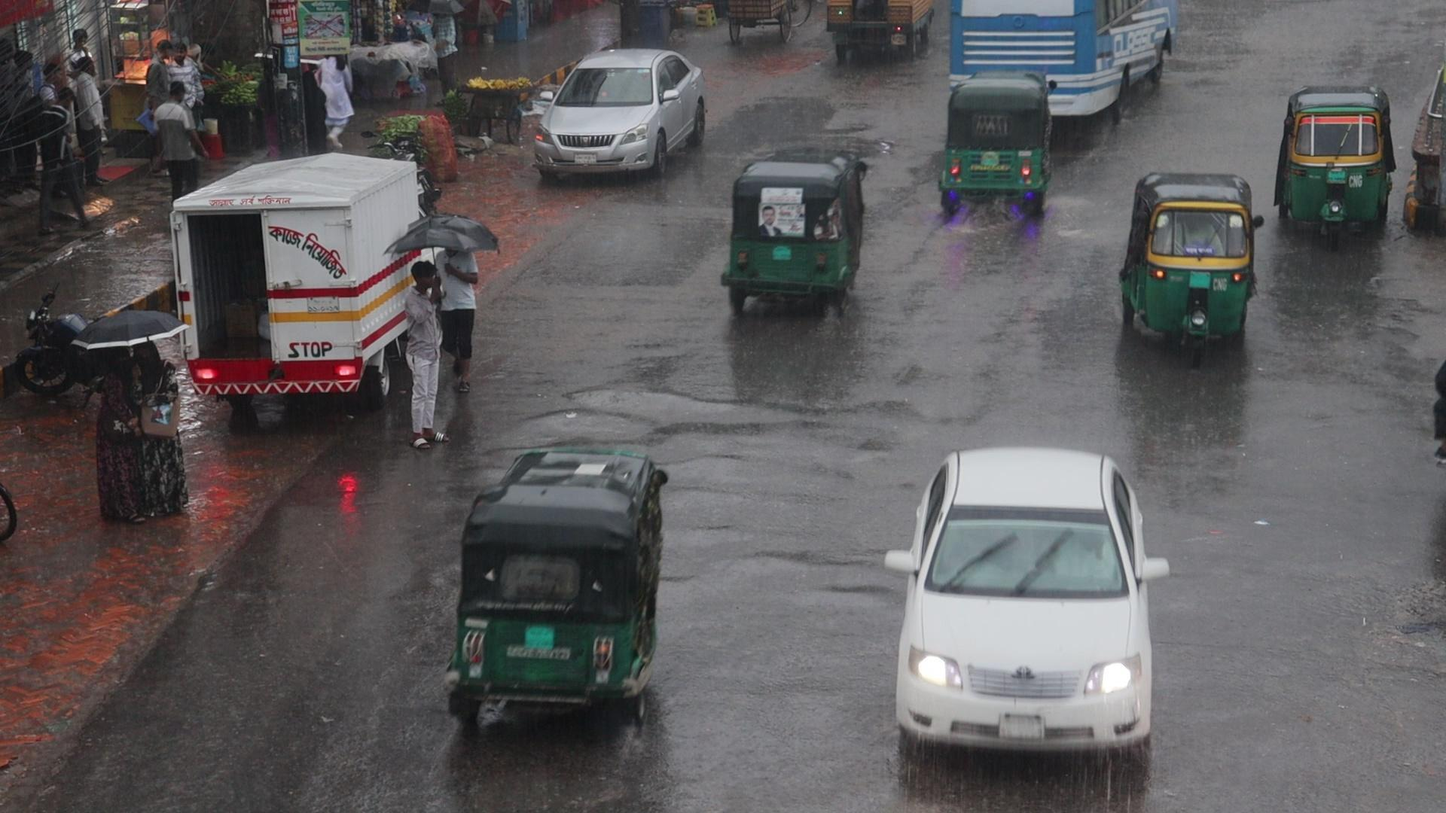Car: (884, 441, 1172, 780), (530, 44, 709, 178)
